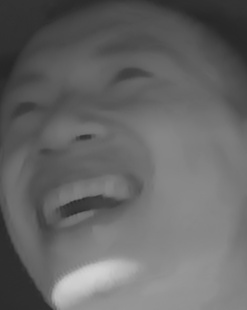eye: (105, 62, 158, 90), (6, 95, 51, 122)
mouth: (26, 164, 146, 240)
